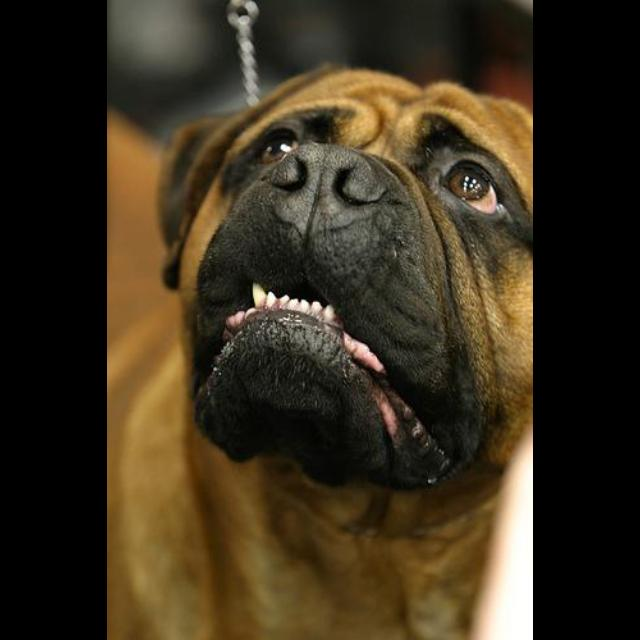bullmastiff: (108, 61, 532, 639)
